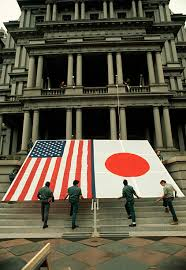Japanese Flag: (93, 138, 186, 202)
